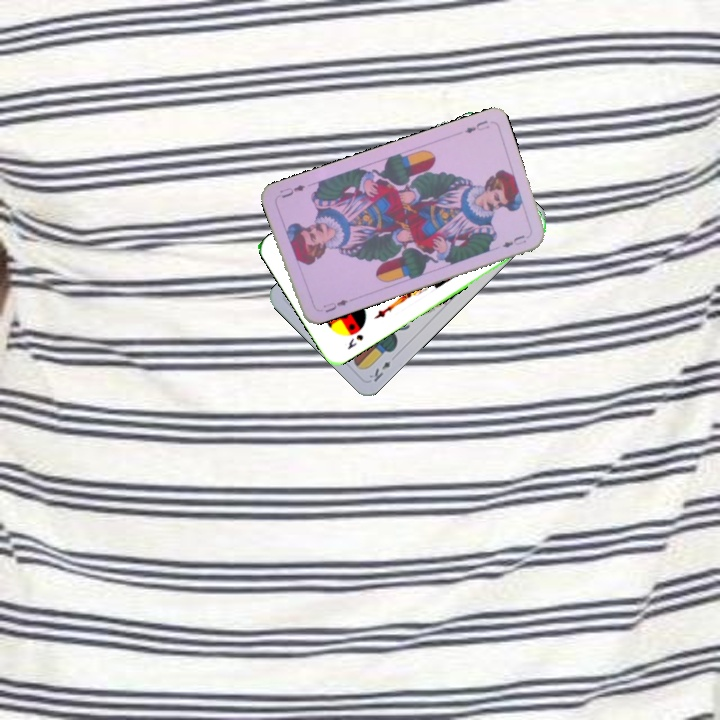EK: (365, 357, 393, 384)
EU: (319, 295, 351, 315), (461, 116, 492, 136)
SK: (343, 330, 366, 352)
